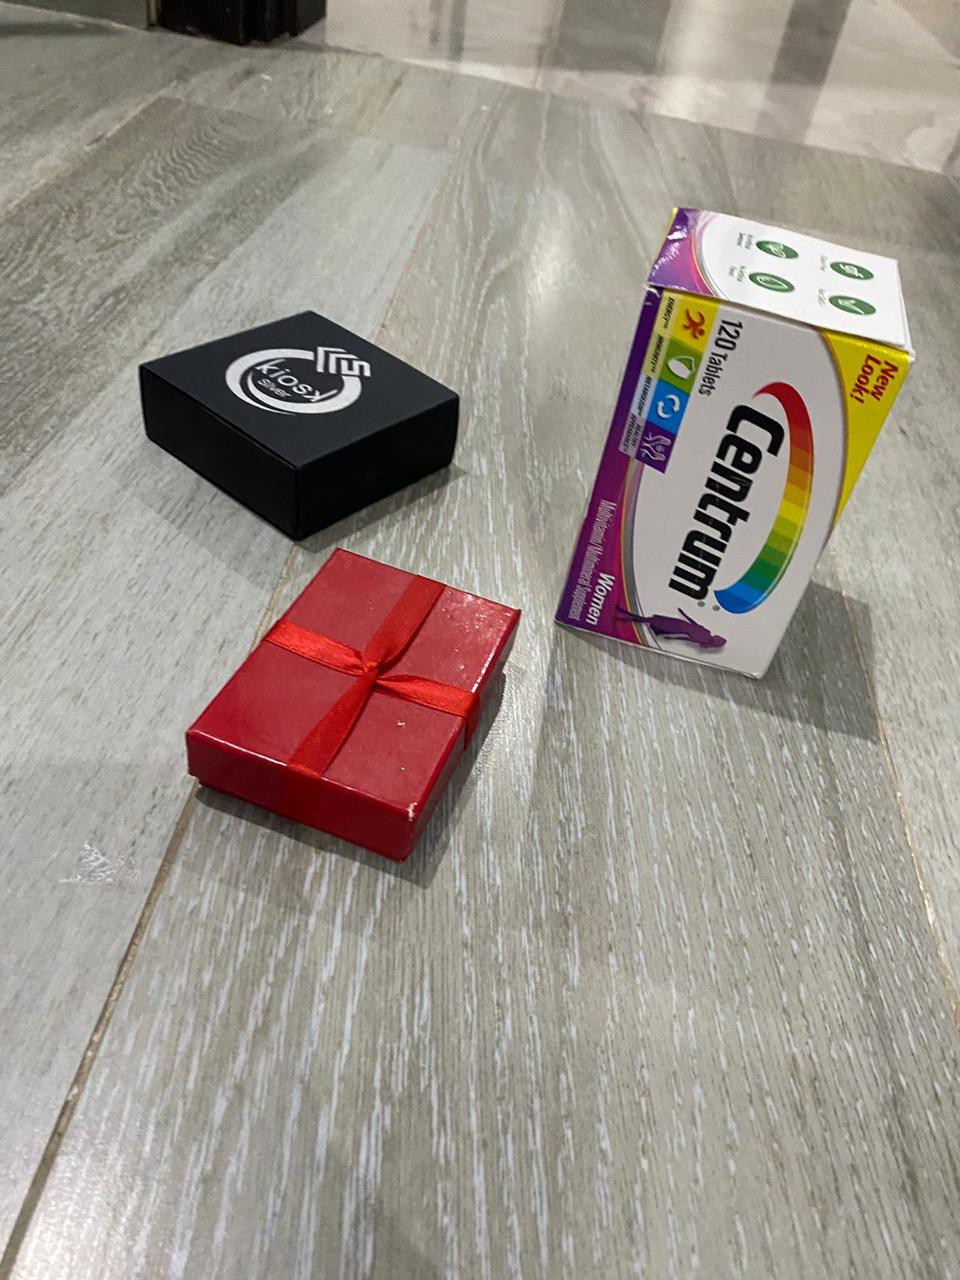Black Box: (176, 542, 521, 872)
Centrum: (556, 204, 917, 690)
Red Box: (131, 308, 471, 542)
